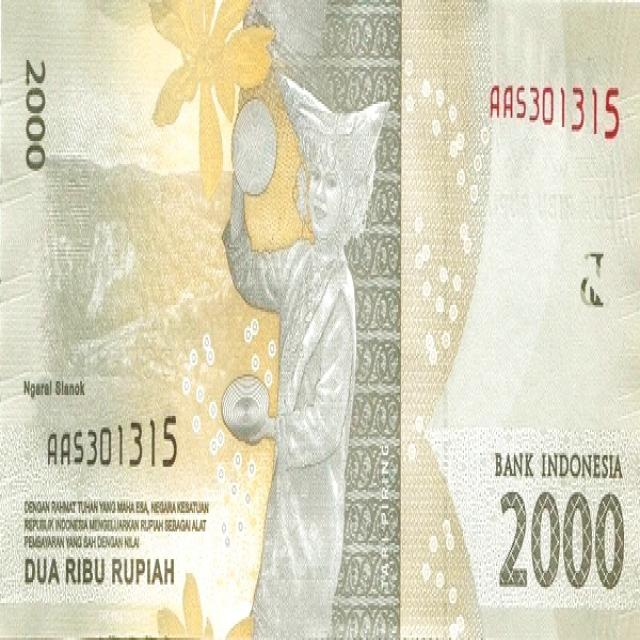dua ribu rupiah: (0, 3, 637, 640)
